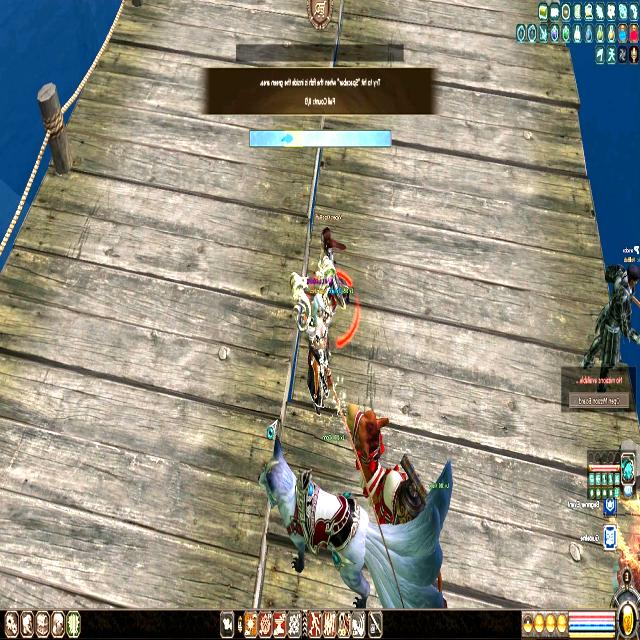fishes: (282, 132, 294, 146)
